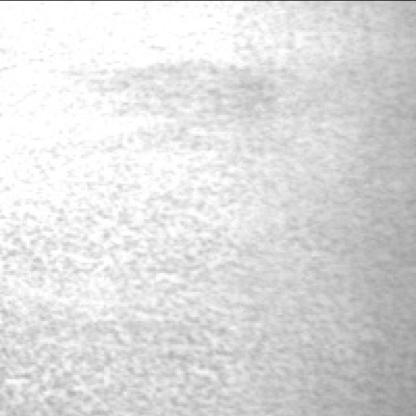pitted_surface: (0, 60, 239, 412)
